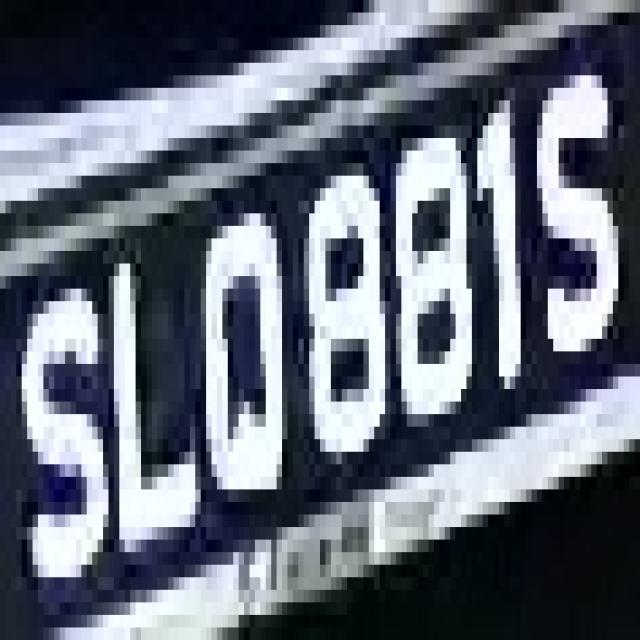1: (450, 63, 532, 452)
8: (276, 126, 391, 514), (380, 113, 482, 489)
L: (98, 201, 200, 590)
Q: (185, 188, 309, 552)
S: (520, 50, 640, 401), (0, 5, 1, 13)
